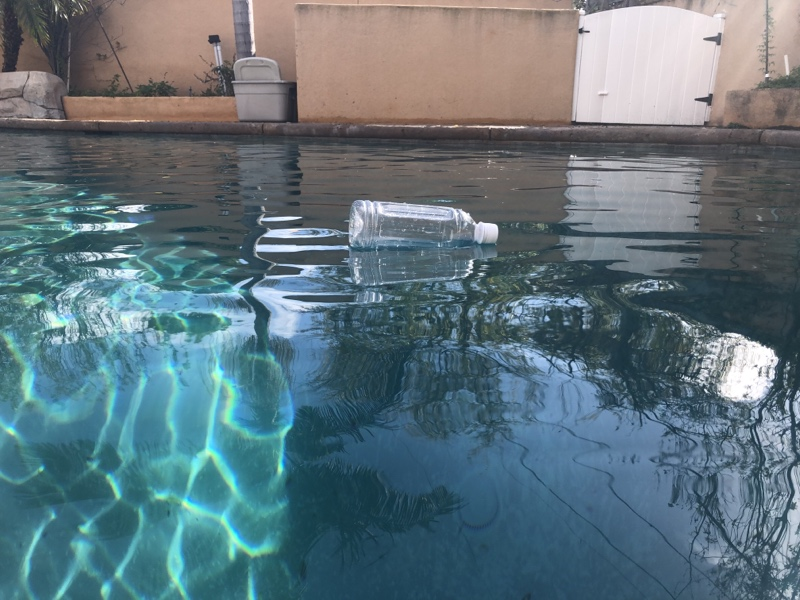Plastic Bottle: (347, 195, 500, 249)
